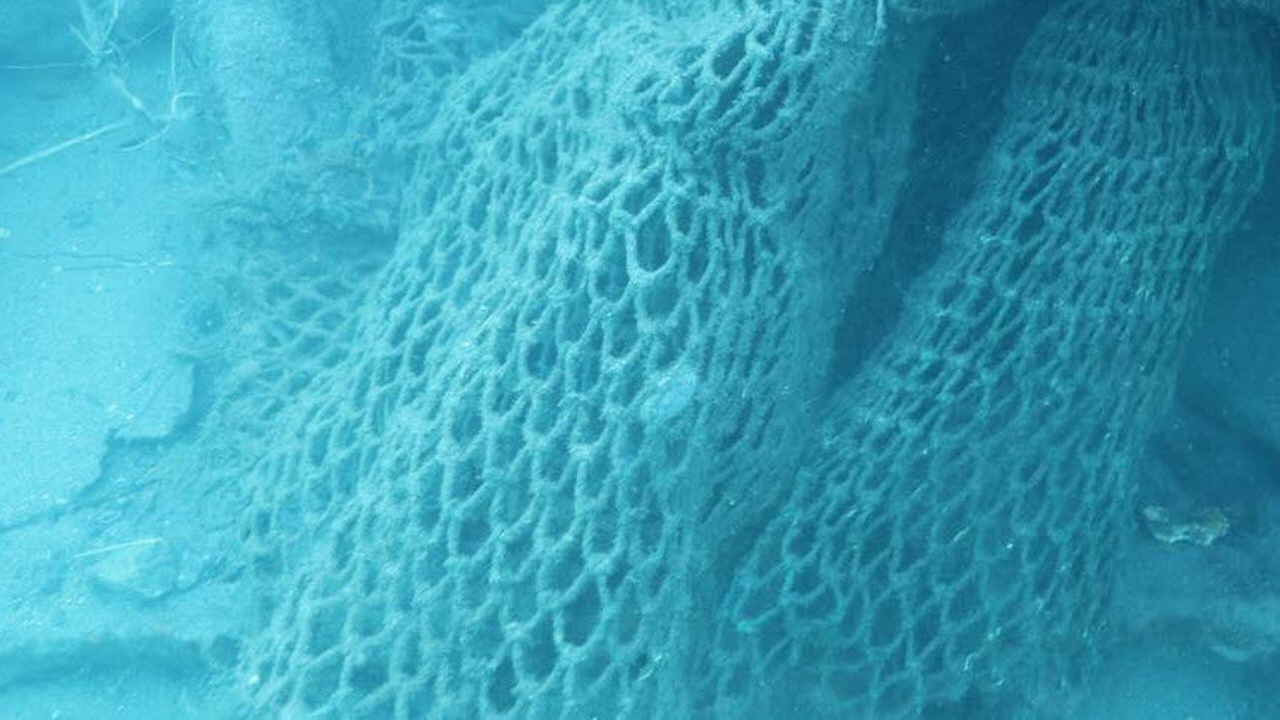fish net: (235, 0, 1279, 720)
